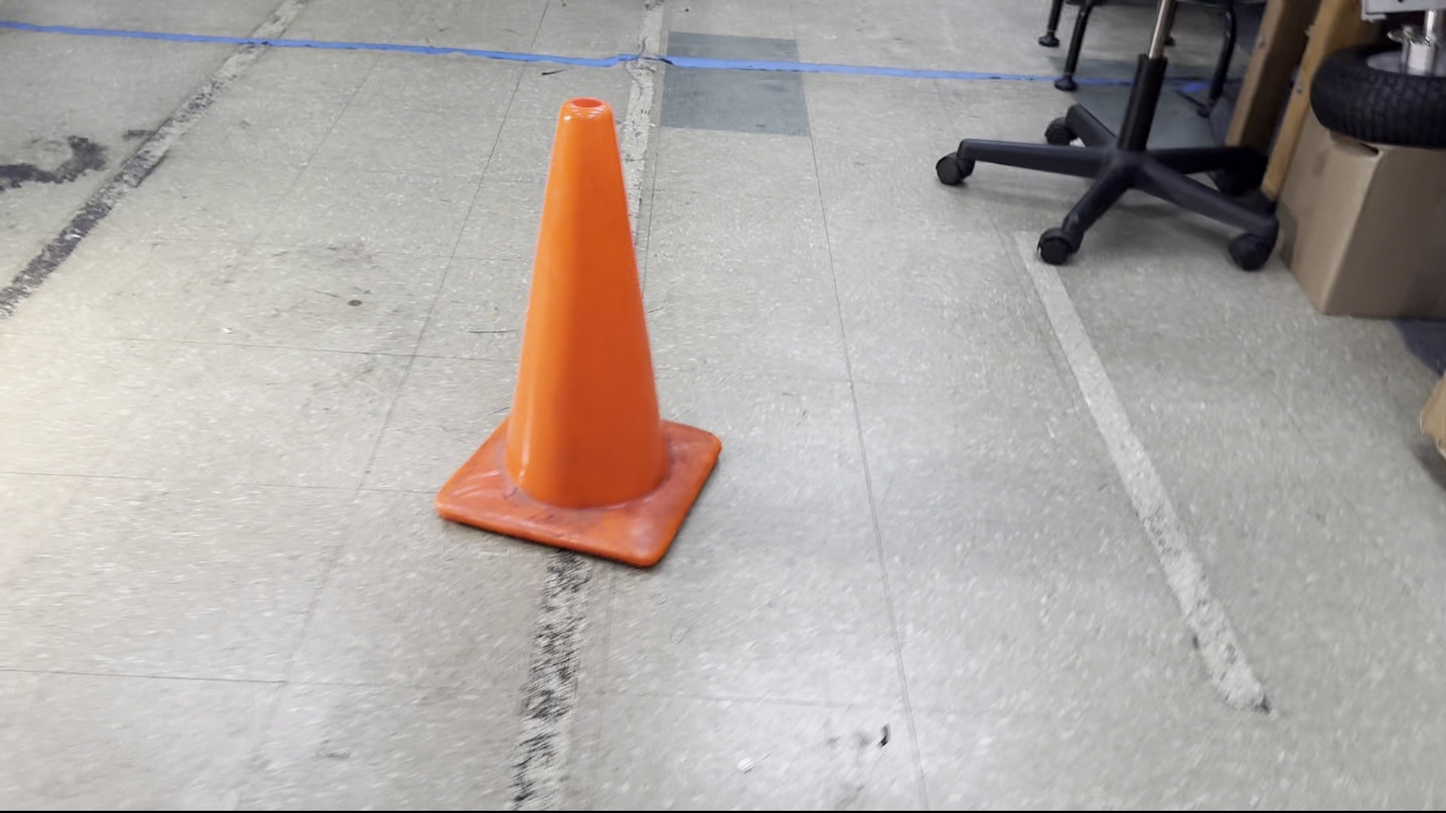traffic_cone: (434, 96, 722, 569)
